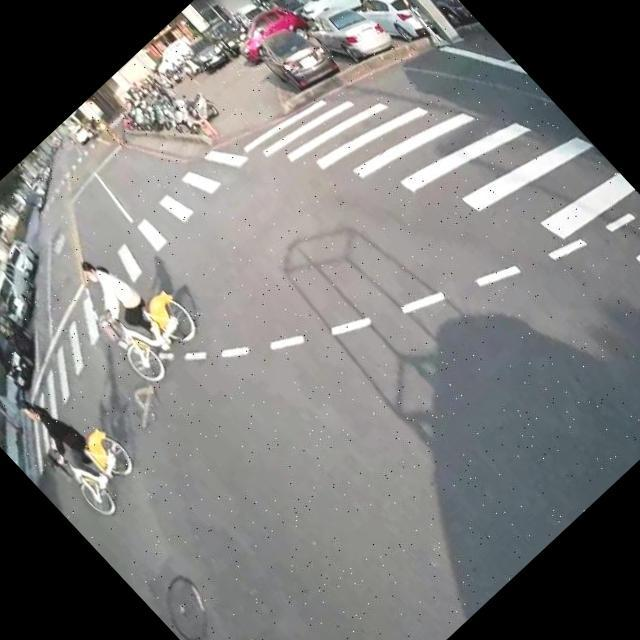person: (4, 380, 122, 502), (62, 246, 179, 366)
